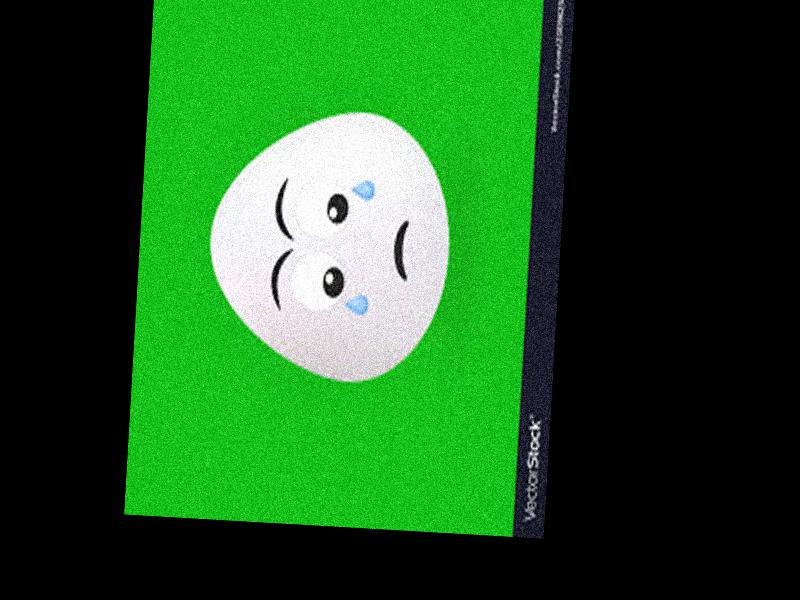Eggs: (204, 106, 456, 389)
